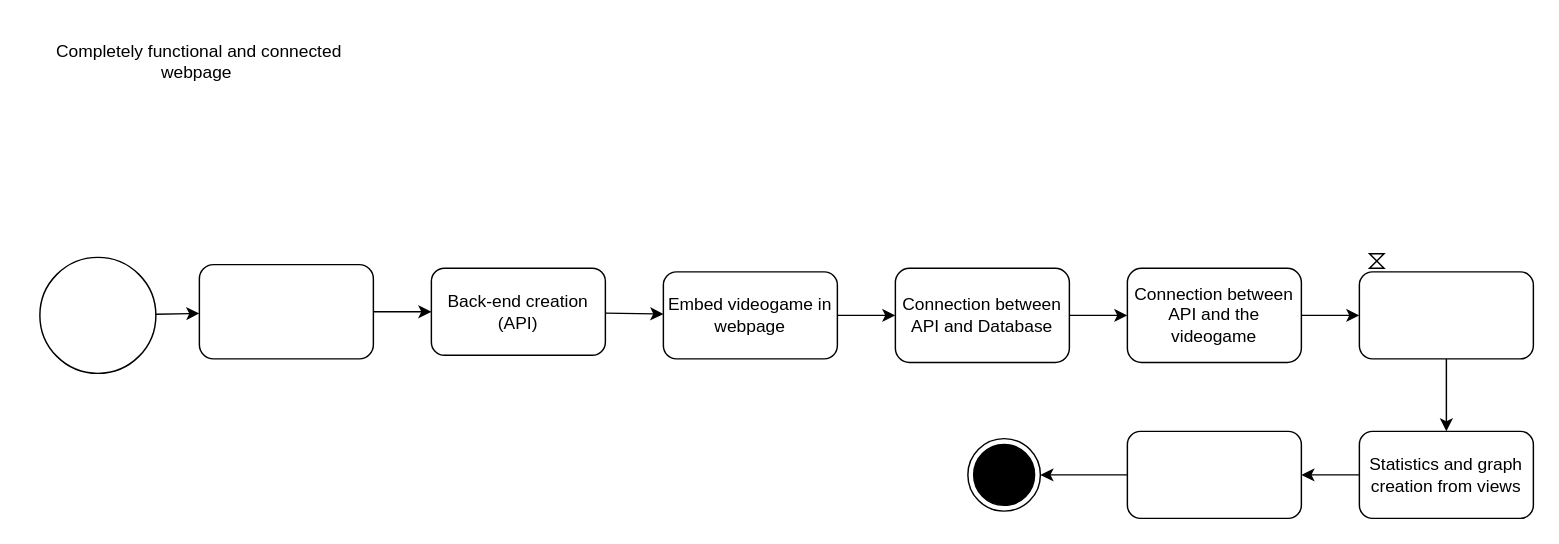
The diagram is 1559 pixels wide and 544 high, and some of its shapes have lost their labels. Here are the shapes that lost their labels. From the top down, the centre of each, then its label:
At pixel 285 311: "Front-end creation".
At pixel 1445 314: "Data retrieval from videogame and storage in database".
At pixel 1213 474: "Integration of statistics in front-end".
